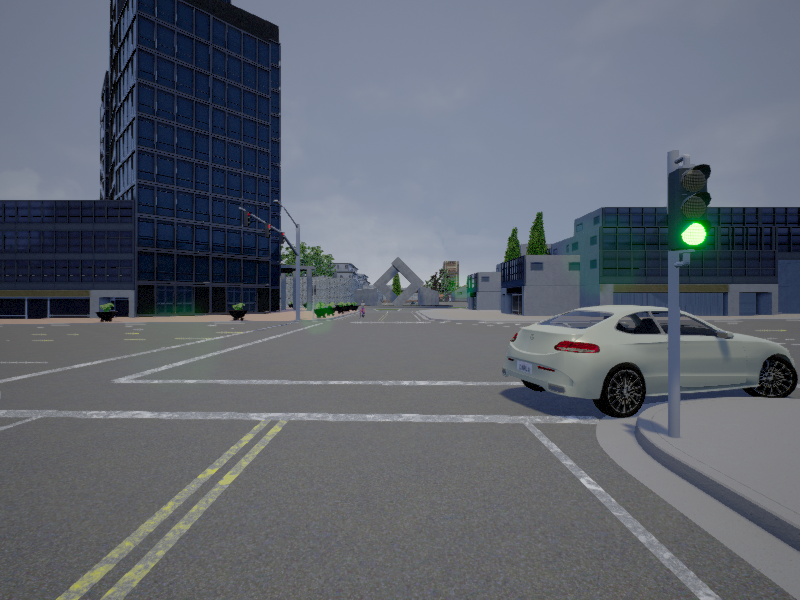Benign: (507, 301, 797, 418)
